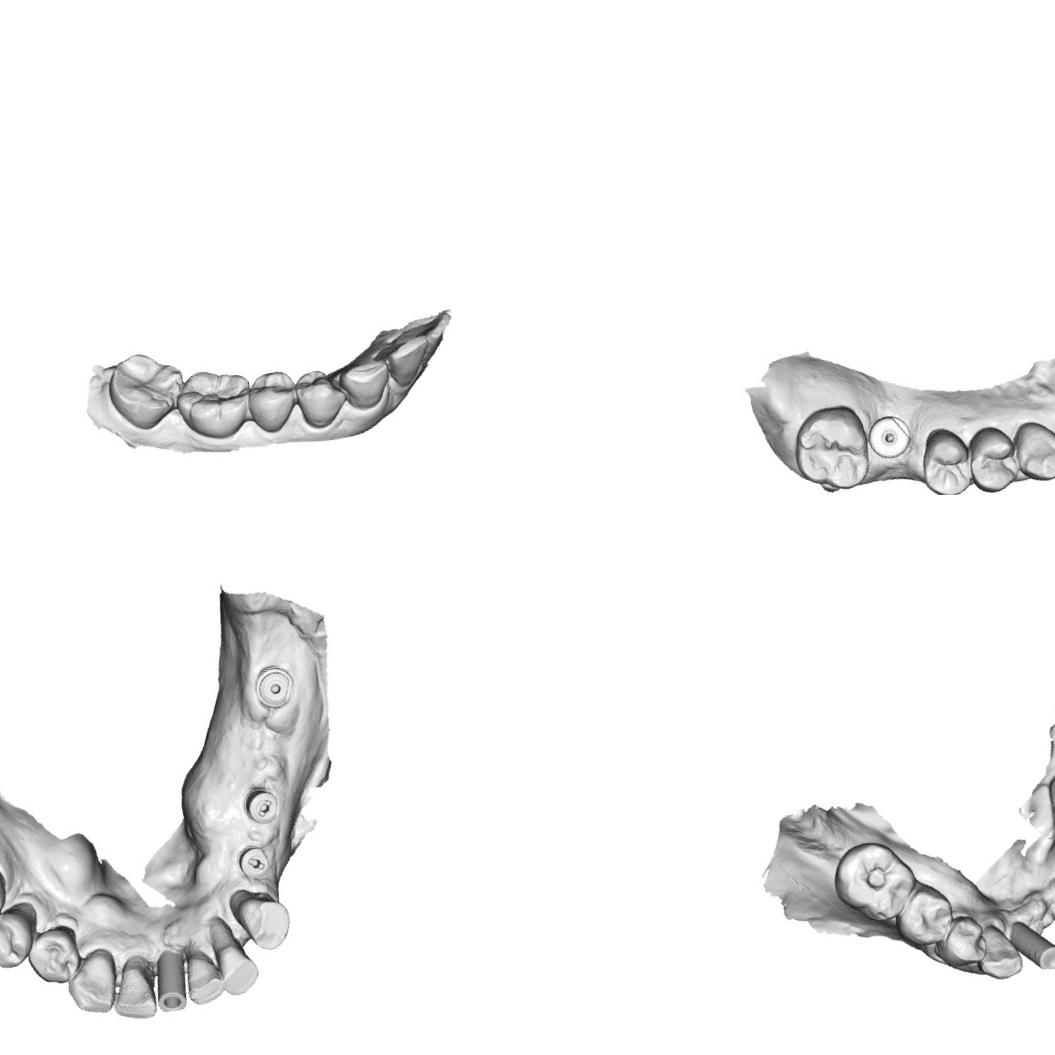canine: (60, 948, 123, 1022), (232, 888, 298, 958), (969, 916, 1027, 985), (1008, 412, 1055, 487), (337, 356, 396, 412)
implant: (146, 951, 194, 1020), (1007, 910, 1055, 979), (862, 404, 914, 462), (249, 661, 300, 712)
implant_minus: (230, 839, 276, 884), (238, 784, 282, 828)
incisor: (384, 331, 439, 394), (212, 936, 266, 1000), (104, 964, 158, 1026), (180, 950, 228, 1009), (395, 308, 458, 352)
molar: (824, 830, 924, 932), (782, 399, 883, 495), (102, 346, 188, 436), (170, 361, 258, 446)
premolar: (888, 878, 960, 953), (909, 421, 981, 495), (960, 419, 1023, 495), (20, 922, 89, 990), (238, 364, 302, 437), (292, 363, 354, 434), (931, 911, 992, 972), (0, 904, 41, 977)
